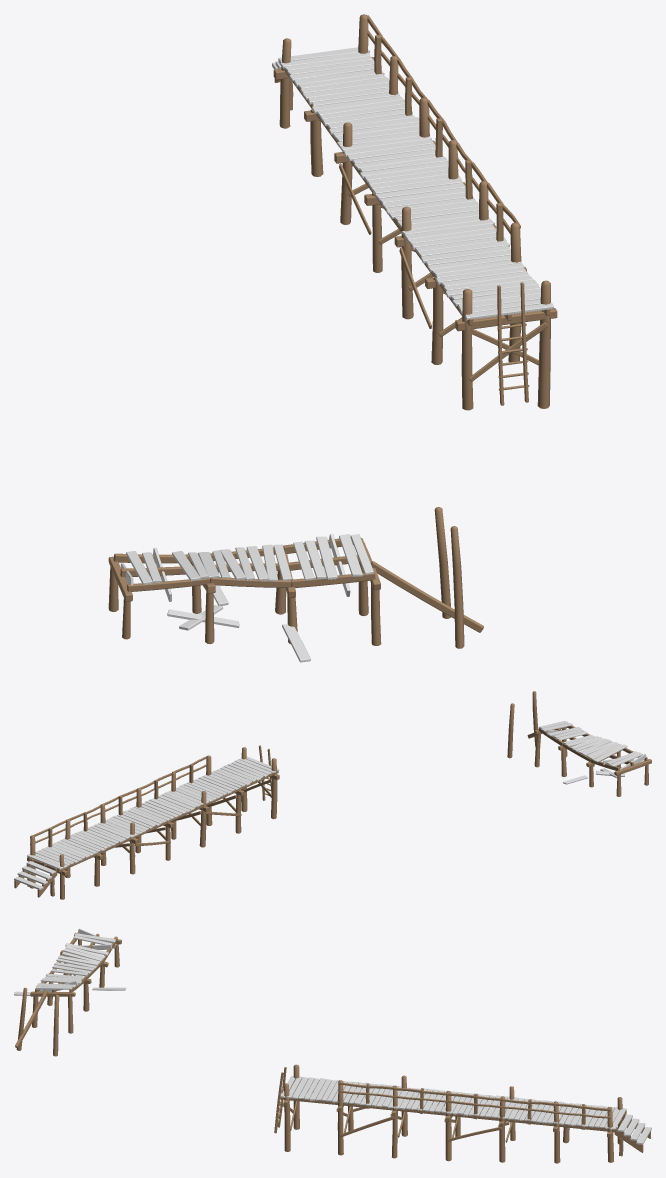
File: structures_piers.glb
The picture shows the model from 3 angles, top to bottom: view 1: azimuth 30°, elevation 25°; view 2: azimuth 150°, elevation 25°; view 3: azimuth 270°, elevation 25°; orthographic projection. The views are drawn at different scales.
Parts seen in each view (by area): view 1: beach pier plank_walk, beach pier timber:round, beach pier timber, broken pier plank_walk, broken pier timber, broken pier timber:round; view 2: beach pier plank_walk, beach pier timber, beach pier timber:round, broken pier plank_walk, broken pier timber:round, broken pier timber; view 3: beach pier plank_walk, beach pier timber, beach pier timber:round, broken pier plank_walk, broken pier timber:round, broken pier timber.
Part boxes in pixels (left/top/right/bottom): beach pier plank_walk: left=272, top=47, right=553, bottom=320; beach pier timber:round: left=279, top=14, right=550, bottom=410; beach pier timber: left=273, top=15, right=557, bottom=405; broken pier plank_walk: left=120, top=534, right=373, bottom=662; broken pier timber: left=108, top=538, right=483, bottom=632; broken pier timber:round: left=108, top=507, right=464, bottom=648; beach pier plank_walk: left=14, top=756, right=279, bottom=889; beach pier timber: left=14, top=745, right=279, bottom=897; beach pier timber:round: left=30, top=747, right=277, bottom=899; broken pier plank_walk: left=538, top=721, right=646, bottom=784; broken pier timber:round: left=507, top=691, right=648, bottom=796; broken pier timber: left=527, top=725, right=651, bottom=775; beach pier plank_walk: left=280, top=1076, right=651, bottom=1144; beach pier timber: left=274, top=1067, right=650, bottom=1156; beach pier timber:round: left=284, top=1064, right=623, bottom=1163; broken pier plank_walk: left=14, top=928, right=126, bottom=995; broken pier timber:round: left=16, top=939, right=119, bottom=1056; broken pier timber: left=15, top=932, right=121, bottom=1048.
Size of the model in its own units: 21.45 by 3.89 by 29.59.
